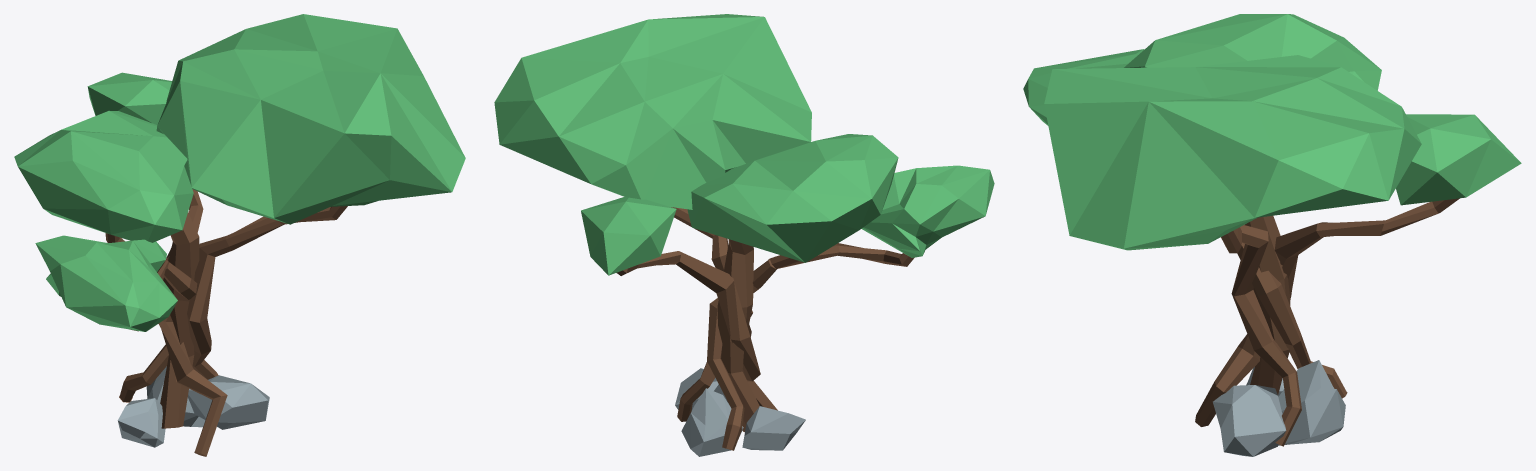
The model's file is tree_1.glb.
3 renders of one model, left to right at view 1: azimuth 30°, elevation 25°; view 2: azimuth 150°, elevation 25°; view 3: azimuth 270°, elevation 25°, orthographic. The views are drawn at different scales.
Visible parts, largest first — view 1: Cube.001, Icosphere.002, Icosphere, Tree, The actual tree, Icosphere.001, Rock, Rock.001, Rock.002; view 2: Cube.001, Icosphere.002, Tree, Icosphere, Icosphere.001, The actual tree, Rock.002, Rock.001, Rock; view 3: Cube.001, Tree, Icosphere.002, Icosphere.001, Rock, Rock.002, The actual tree, Icosphere.
Part boxes in pixels (x1,y1,x2,y2): Cube.001: (156,14,465,224); Icosphere.002: (14,110,193,242); Icosphere: (35,235,177,331); Tree: (105,189,347,456); The actual tree: (160,213,199,428); Icosphere.001: (87,72,172,124); Rock: (188,375,269,429); Rock.001: (117,398,165,447); Rock.002: (146,366,205,427); Cube.001: (494,14,811,209); Icosphere.002: (687,134,898,262); Tree: (616,207,914,450); Icosphere: (861,165,994,257); Icosphere.001: (581,196,676,275); The actual tree: (717,239,759,432); Rock.002: (681,388,743,456); Rock.001: (742,406,805,450); Rock: (675,368,730,410); Cube.001: (1044,55,1421,250); Tree: (1195,198,1459,446); Icosphere.002: (1124,14,1381,90); Icosphere.001: (1396,114,1521,205); Rock: (1213,385,1286,456); Rock.002: (1278,360,1345,445); The actual tree: (1245,215,1290,394); Icosphere: (1023,49,1144,125).
Size of the model in its own units: 5.49 by 4.55 by 4.99.
